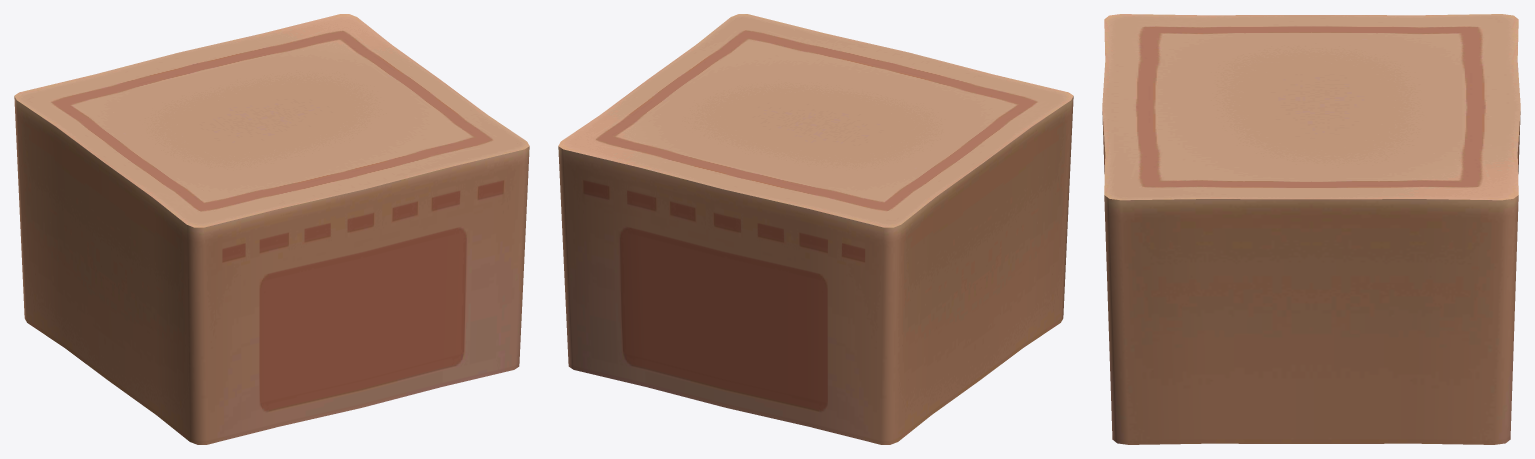
Rendered from carton_boxes3.fbx.
The picture shows the model from 3 angles, left to right: view 1: azimuth 30°, elevation 25°; view 2: azimuth 150°, elevation 25°; view 3: azimuth 270°, elevation 25°; orthographic projection. The views are drawn at different scales.
Parts seen in each view (by area): view 1: carton_boxes3; view 2: carton_boxes3; view 3: carton_boxes3.
Boxes of the visible parts, x1,y1,x2,y2 form: carton_boxes3: [14, 14, 529, 444]; carton_boxes3: [558, 14, 1073, 444]; carton_boxes3: [1102, 14, 1520, 444].
Size of the model in its own units: 129 by 80.16 by 122.
1 material, 1 textured.
